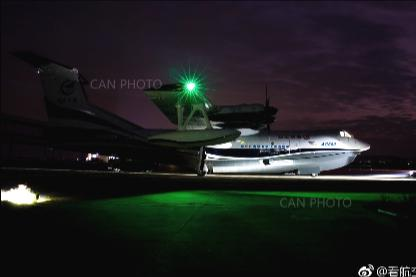AG600: (6, 50, 370, 176)
